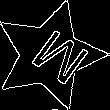M_SW: (14, 21, 85, 90)
